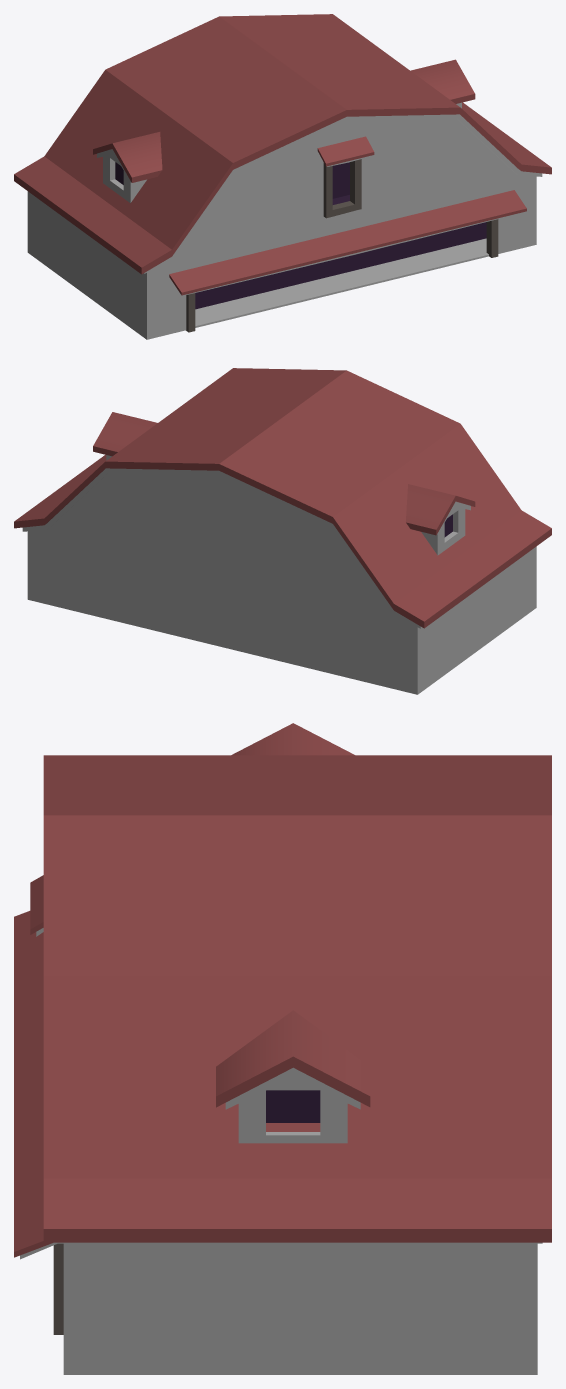
The model's file is Boss_koya.fbx.
3 views of the same model, one above another, from view 1: azimuth 30°, elevation 25°; view 2: azimuth 150°, elevation 25°; view 3: azimuth 270°, elevation 25° (orthographic). The views are drawn at different scales.
Parts seen in each view (by area): view 1: yane1, koya_hontai, yane2, yane4, kiwaku2, yane3, mado, kiwaku1; view 2: koya_hontai, yane1, yane4, mado; view 3: yane1, koya_hontai, yane4, yane2, mado, kiwaku1, yane3.
Part boxes in pixels (x1,y1,x2,y2): yane1: (14, 14, 551, 274); koya_hontai: (27, 118, 536, 339); yane2: (169, 190, 526, 295); yane4: (93, 59, 475, 182); kiwaku2: (323, 159, 361, 218); yane3: (317, 136, 374, 166); mado: (103, 102, 461, 202); kiwaku1: (186, 219, 498, 332); koya_hontai: (27, 473, 536, 694); yane1: (14, 368, 551, 628); yane4: (93, 412, 475, 535); mado: (106, 455, 465, 555); yane1: (43, 755, 551, 1243); koya_hontai: (63, 1243, 537, 1374); yane4: (216, 723, 370, 1109); yane2: (14, 911, 57, 1259); mado: (238, 1077, 347, 1143); kiwaku1: (53, 1243, 63, 1334); yane3: (30, 875, 43, 936).
Size of the model in its own units: 18.88 by 8.2 by 10.77.
